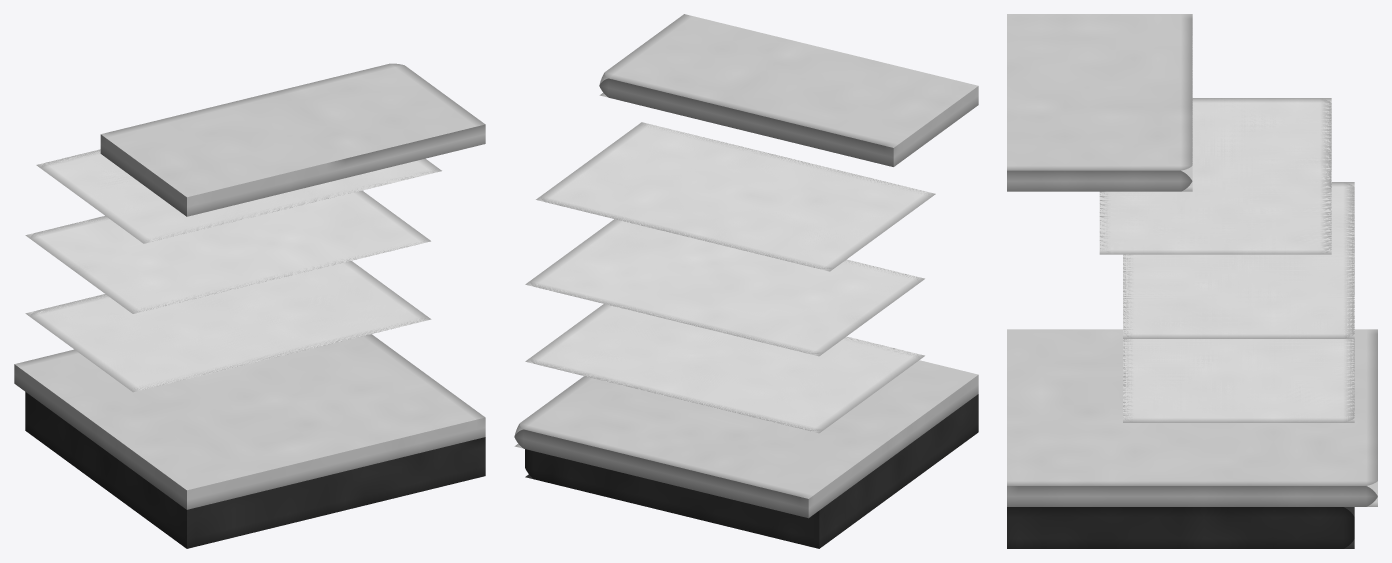
Rendered from shop_display_1.obj.
The picture shows the model from 3 angles, left to right: view 1: azimuth 30°, elevation 25°; view 2: azimuth 150°, elevation 25°; view 3: azimuth 270°, elevation 25°; orthographic projection. The views are drawn at different scales.
Visible parts, largest first — view 1: lj, qp, ln, qq, li, qr; view 2: lj, qp, qr, qq, ln, li; view 3: lj, qp, qr, qq, ln, li.
Part boxes in pixels (x1,y1,x2,y2): lj: [14, 334, 485, 509]; qp: [100, 63, 485, 216]; ln: [25, 261, 431, 392]; qq: [25, 190, 430, 313]; li: [25, 392, 485, 548]; qr: [36, 149, 441, 243]; lj: [514, 360, 978, 518]; qp: [599, 14, 978, 166]; qr: [536, 122, 935, 271]; qq: [525, 219, 924, 356]; ln: [525, 304, 924, 433]; li: [525, 394, 978, 548]; lj: [1007, 329, 1377, 506]; qp: [1007, 14, 1192, 191]; qr: [1099, 98, 1331, 254]; qq: [1123, 182, 1354, 338]; ln: [1123, 339, 1354, 422]; li: [1007, 507, 1354, 548].
Bounding box in the file's own units: 1 × 1.12 × 1.
Materials: 1 (1 with a texture image).
